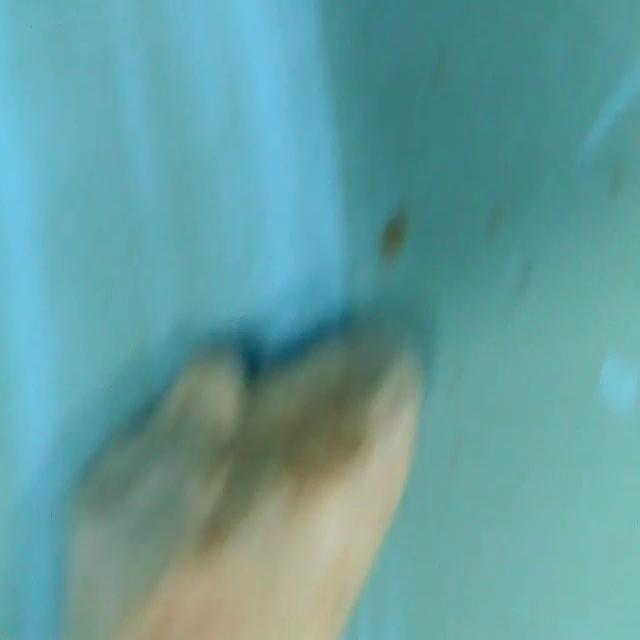rock: (60, 315, 435, 640)
